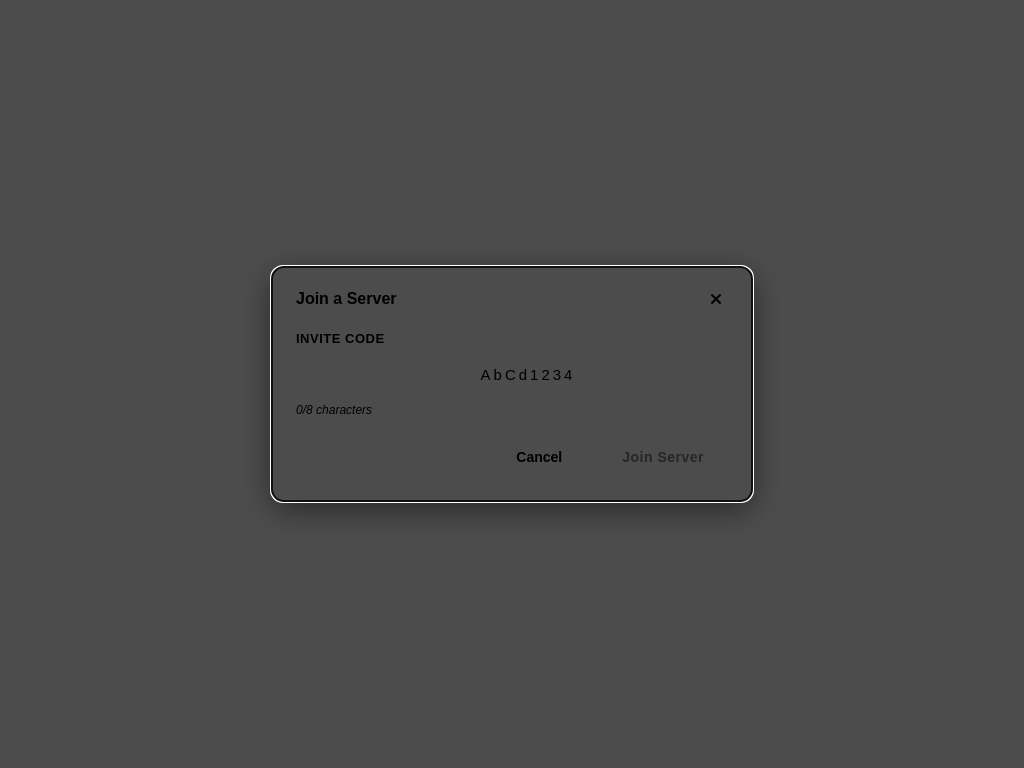
Test: JoinServerModal › strips non-alphanumeric characters
Type "ab!@#cd12" into the field with placeholder "AbCd1234". click: (528, 374)
box: [296,354,760,395]
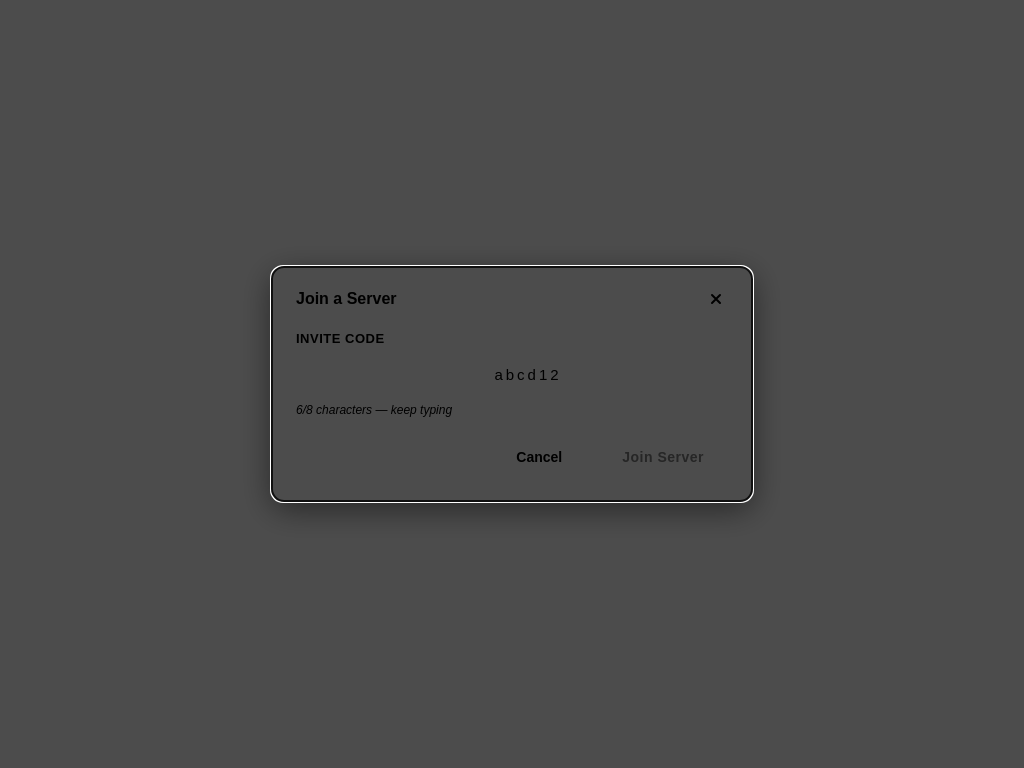
Expected: the field with placeholder "AbCd1234" holds "abcd12", [296,354,752,395]
